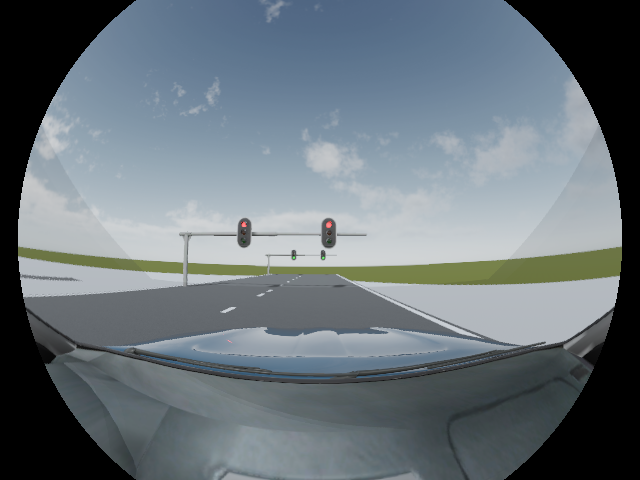Green Light: (321, 251, 326, 260), (292, 250, 296, 260)
Red Light: (237, 218, 252, 247), (323, 218, 336, 248)
